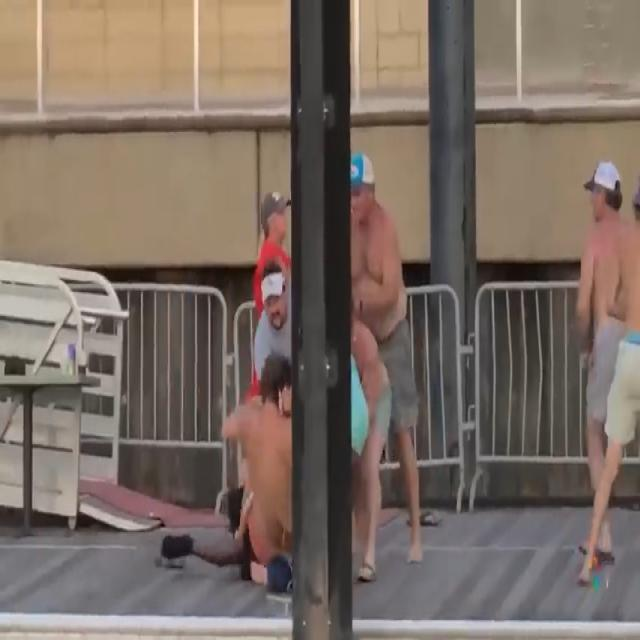fight: (155, 141, 430, 591)
non-fight: (569, 147, 640, 595)
